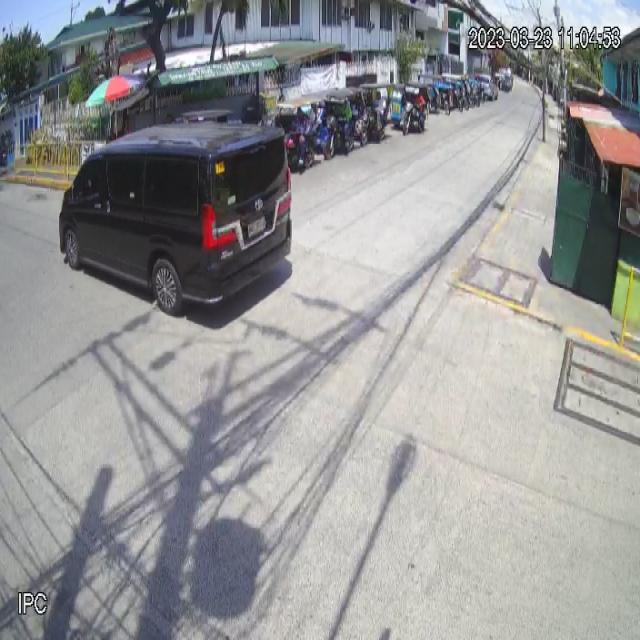Van: (59, 121, 293, 316)
